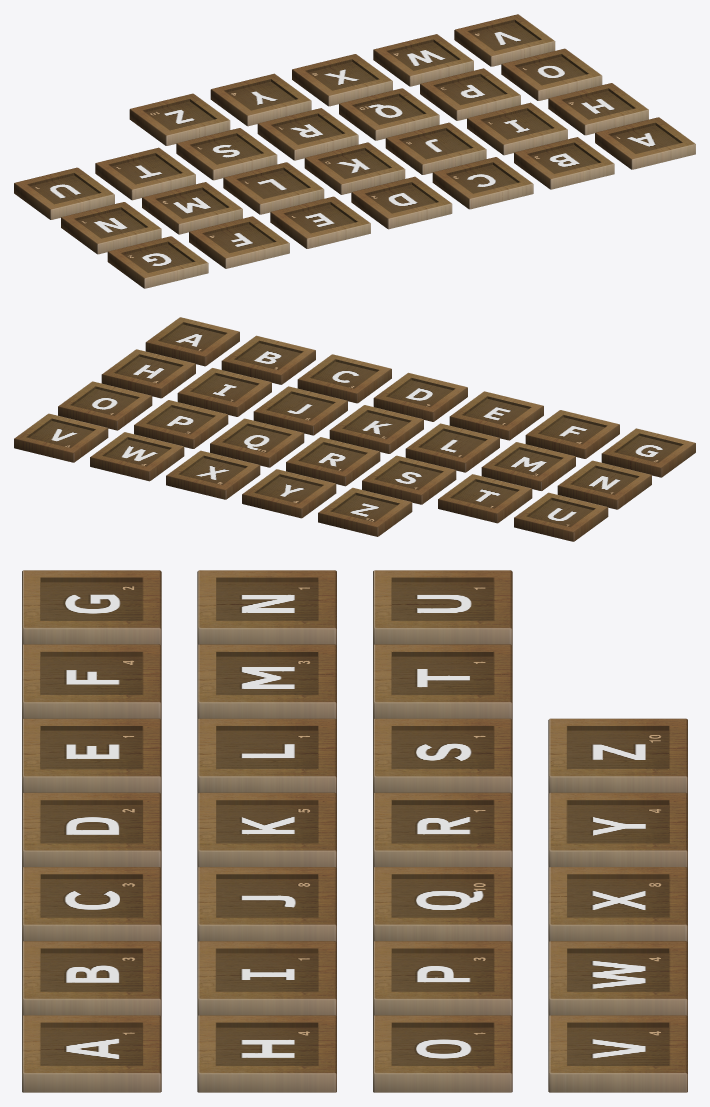
File: WoodLetterTiles.fbx
3 views of the same model, one above another, from view 1: azimuth 30°, elevation 25°; view 2: azimuth 150°, elevation 25°; view 3: azimuth 270°, elevation 25° (orthographic). The views are drawn at different scales.
Parts seen in each view (by area): view 1: G, D, C, B, F, A, E, L, R, J, K, V (+14 smaller); view 2: Z, U, X, Y, T, V, W, O, J, Q, A, E (+14 smaller); view 3: O, A, H, V, G, M, N, T, U, S, P, B (+14 smaller).
Part boxes in pixels (box(x1,y1,x2,y2)): G: box(107, 236, 208, 288); D: box(351, 176, 452, 229); C: box(432, 157, 533, 209); B: box(514, 137, 614, 189); F: box(189, 216, 289, 268); A: box(595, 117, 695, 169); E: box(270, 196, 370, 248); L: box(223, 162, 324, 214); R: box(257, 108, 358, 160); J: box(385, 122, 486, 174); K: box(304, 142, 405, 194); V: box(454, 14, 555, 66); Z: box(318, 487, 412, 536); U: box(514, 492, 608, 541); X: box(166, 450, 260, 499); Y: box(242, 469, 336, 518); T: box(438, 474, 532, 523); V: box(14, 413, 108, 462); W: box(90, 432, 184, 481); O: box(58, 381, 152, 430); J: box(253, 386, 347, 435); Q: box(210, 418, 304, 467); A: box(145, 317, 239, 366); E: box(449, 391, 543, 440); O: box(373, 1015, 512, 1092); A: box(22, 1015, 161, 1092); H: box(197, 1015, 336, 1092); V: box(548, 1015, 687, 1092); G: box(22, 570, 161, 645); M: box(197, 644, 336, 719); N: box(197, 570, 336, 645); T: box(373, 644, 512, 719); U: box(373, 570, 512, 645); S: box(373, 718, 512, 793); P: box(373, 941, 512, 1016); B: box(22, 941, 161, 1016).
Size of the model in its own units: 13.59 by 0.239 by 7.59.
